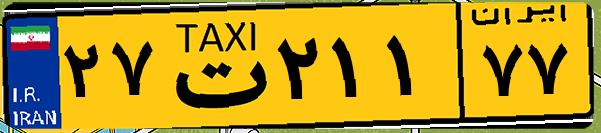1: (385, 28, 445, 110), (330, 28, 385, 110)
2: (270, 28, 330, 110), (57, 26, 110, 100)
7: (475, 38, 525, 113), (525, 38, 570, 115), (110, 28, 158, 98)
ت: (158, 12, 270, 120)
